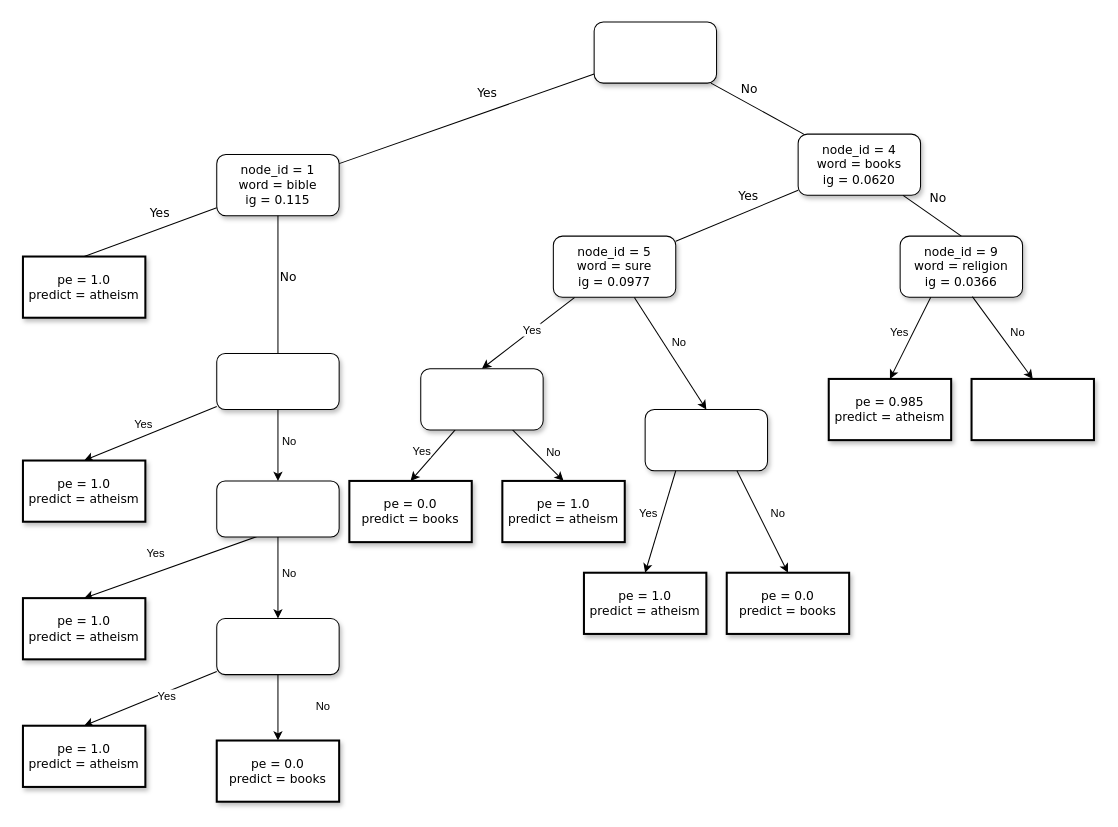
Some shapes in this 1118 by 827 pixel diagram are drawn without their labels. Each missing label, with the centre of its shape:
"node_id = 0 word = book ig = 0.0791" goes at (x=656, y=53).
"node_id = 2 word = call ig = 0.0695" goes at (x=278, y=382).
"node_id = 3 word = sent ig = 0.0842" goes at (x=278, y=510).
"node_id = 6 word = soon ig = 0.918" goes at (x=482, y=400).
"node_id = 7 word = spirit ig = 0.0969" goes at (x=707, y=441).
"node_id = 8 word = controlling ig = 0.0588" goes at (x=278, y=647).
"pe = 0.564 predict = atheism" goes at (x=1033, y=410).
